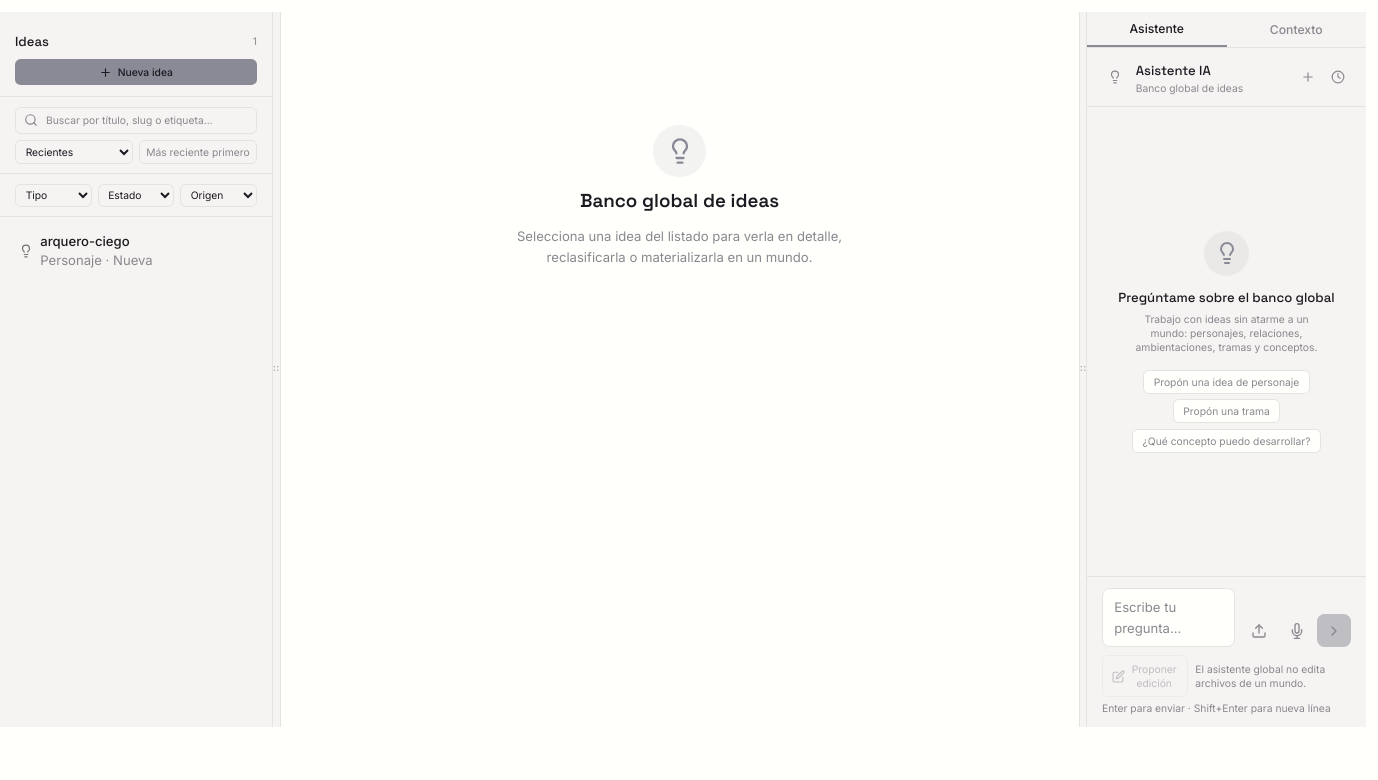
Test case: IdeasWorkshop › falls back to the slug when the title is empty (list + detail header)
What coordinates should you click on to do the following:
click the button "arquero-ciego Personaje · Nueva"
I would click on:
 (136, 251)
Its box is 8,225 -> 264,277.
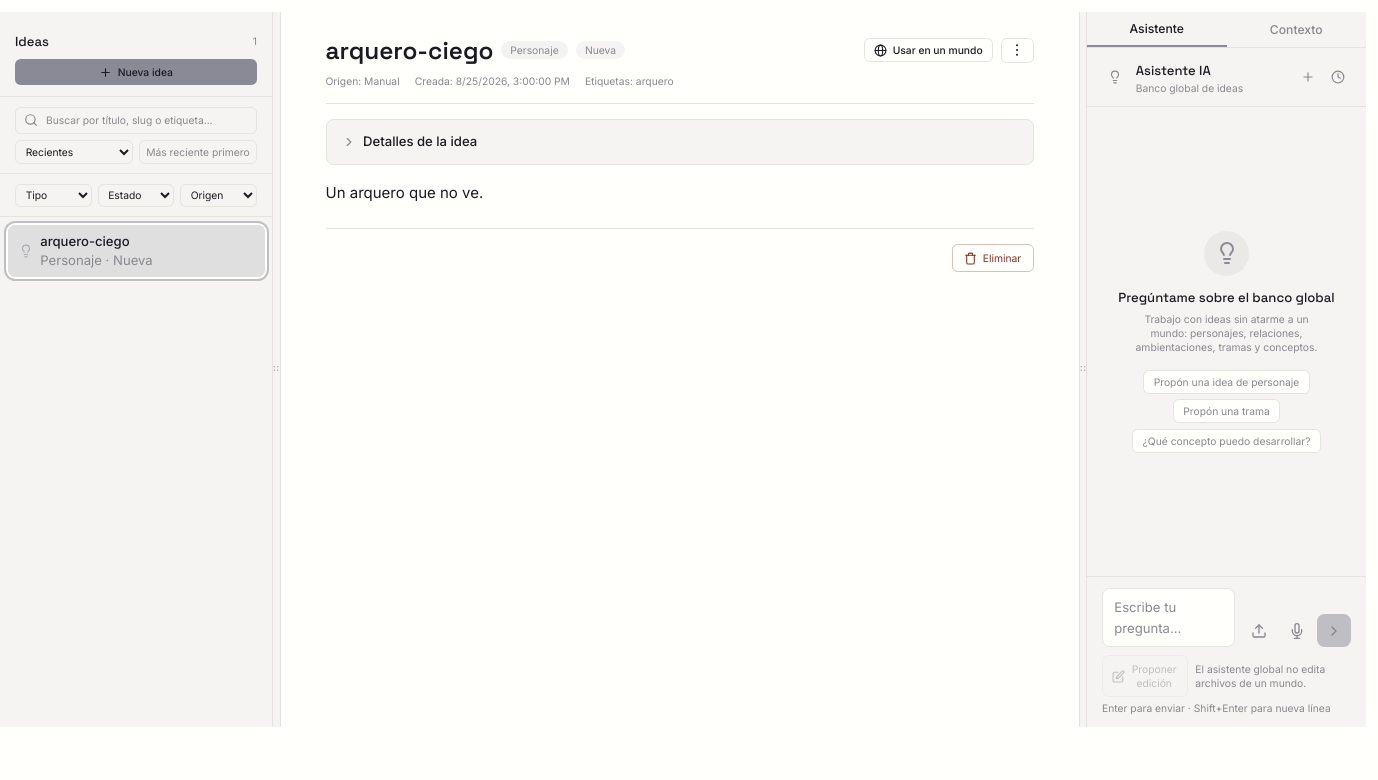
Expected: the heading "arquero-ciego" is shown, 326,34 -> 493,66
